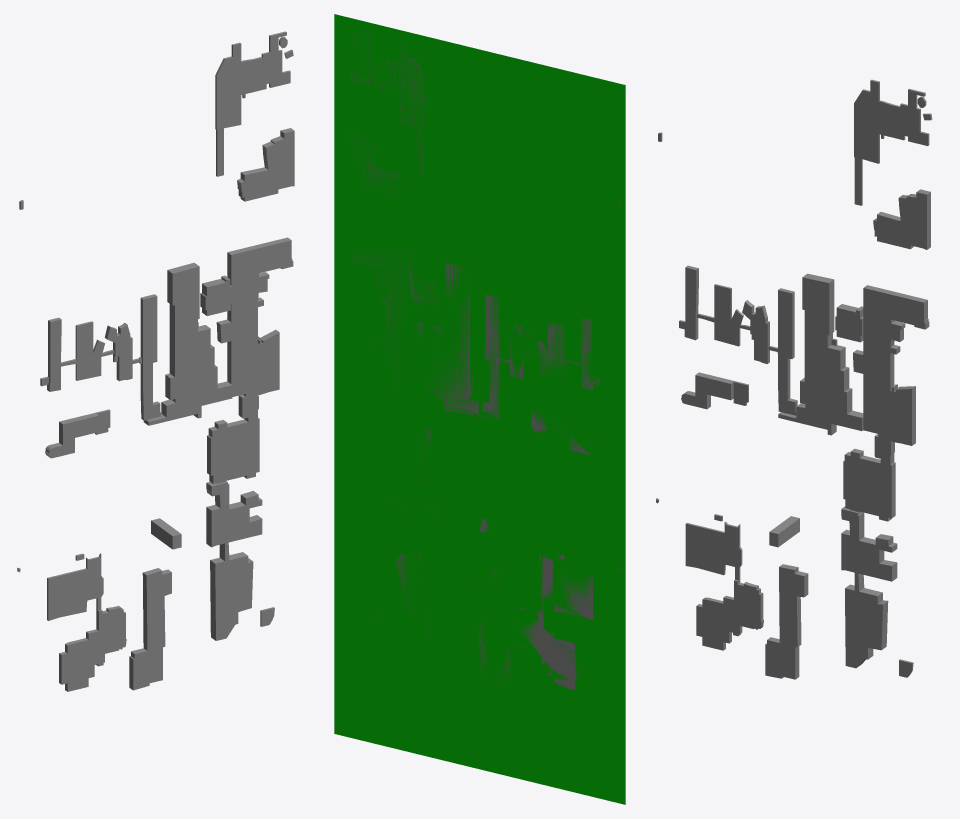
Rendered from combined.glb.
The picture shows the model from 3 angles, left to right: view 1: azimuth 30°, elevation 25°; view 2: azimuth 150°, elevation 25°; view 3: azimuth 330°, elevation 25°; orthographic projection.
Visible parts, largest first — view 1: world; view 2: world; view 3: world.
Part boxes in pixels (x1,y1,x2,y2): world: (17, 31, 294, 691); world: (334, 14, 625, 804); world: (656, 79, 932, 679).
Bounding box in the file's own units: 390 × 920 × 50.3.
